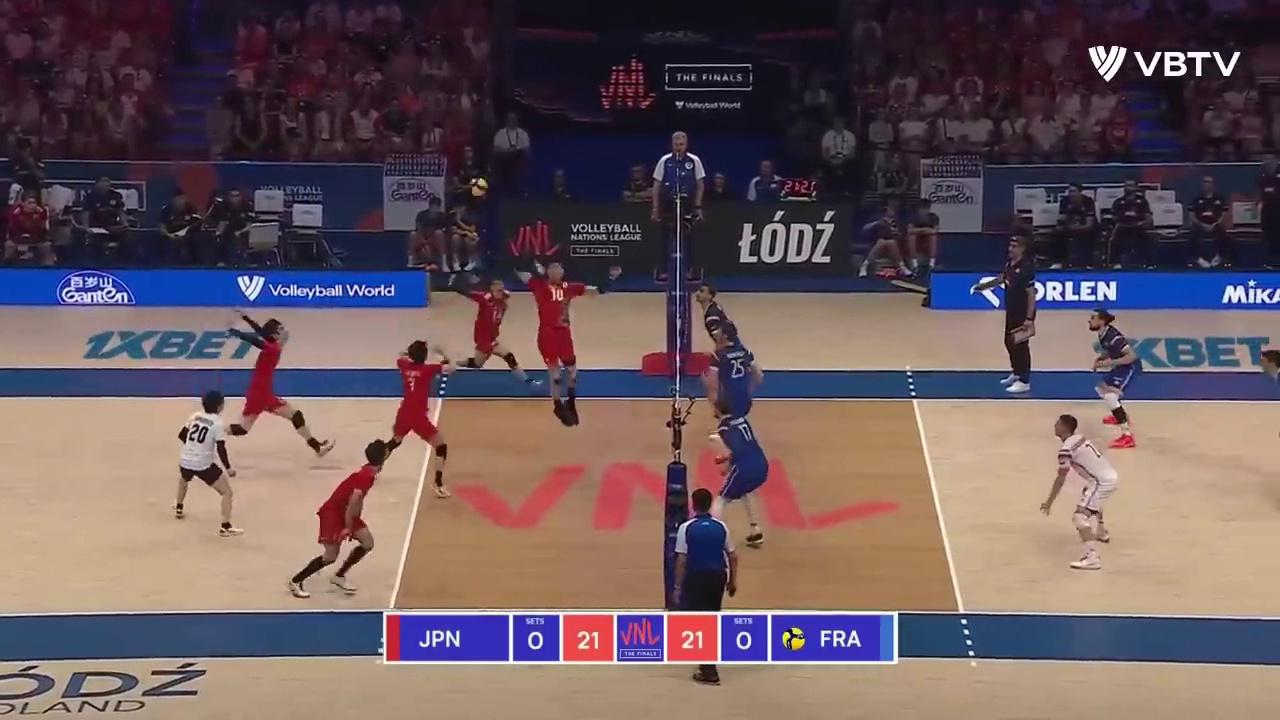ball: (470, 178, 487, 197)
